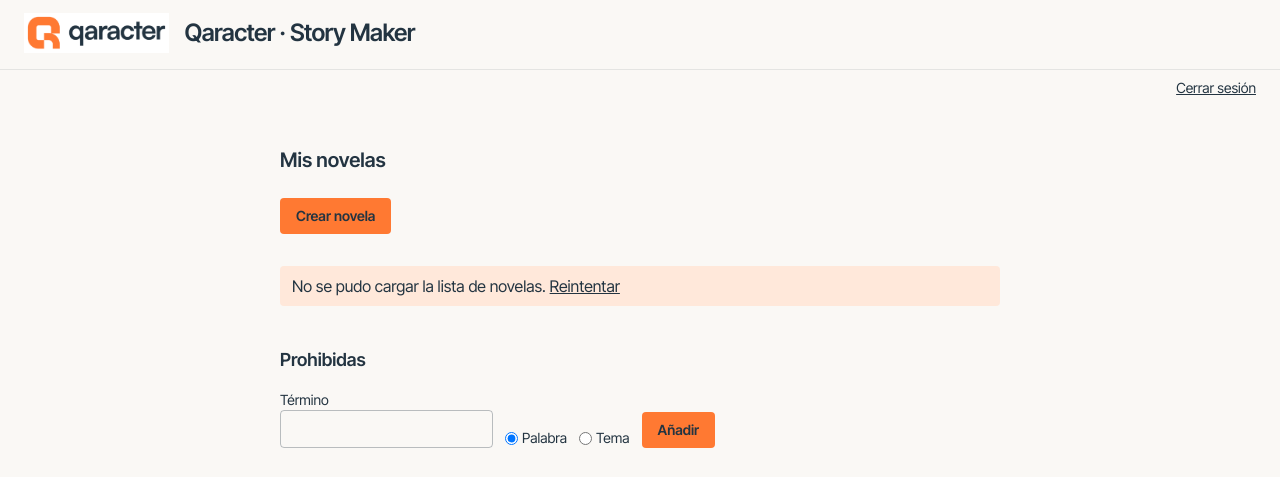
Test: 023 mis novelas › 023-C06: failing to load the list shows an error with a retry, never an empty list
This screenshot has width=1280, height=477.
Expected: the message shows "No se pudo cargar", [292, 276, 546, 296]
Click the button "Reintentar": (585, 286) [550, 274, 620, 298]
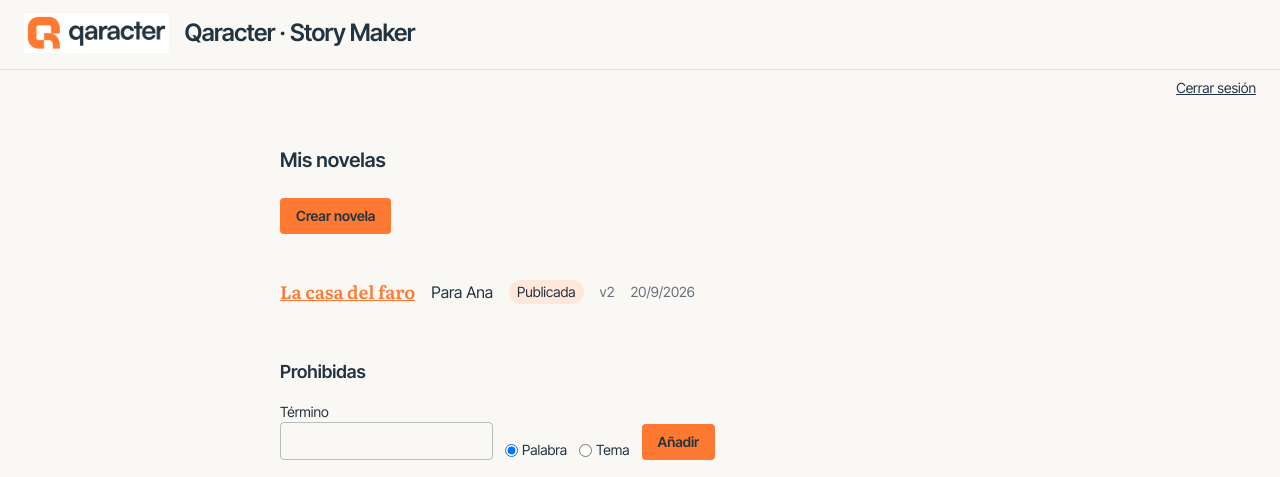
Now the list named "Novelas" is shown, box [280, 278, 695, 305]
